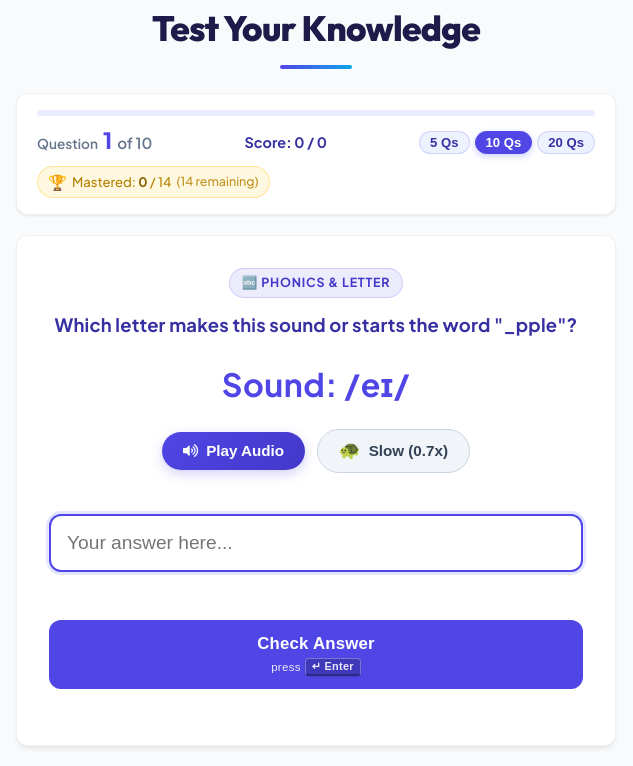
Test case: Quiz Component - Session Goals & Mastery Filtering › allows user to change the session goal to 5 or 20 questions
Click the button "5 Qs": click(444, 142) [419,130,470,154]
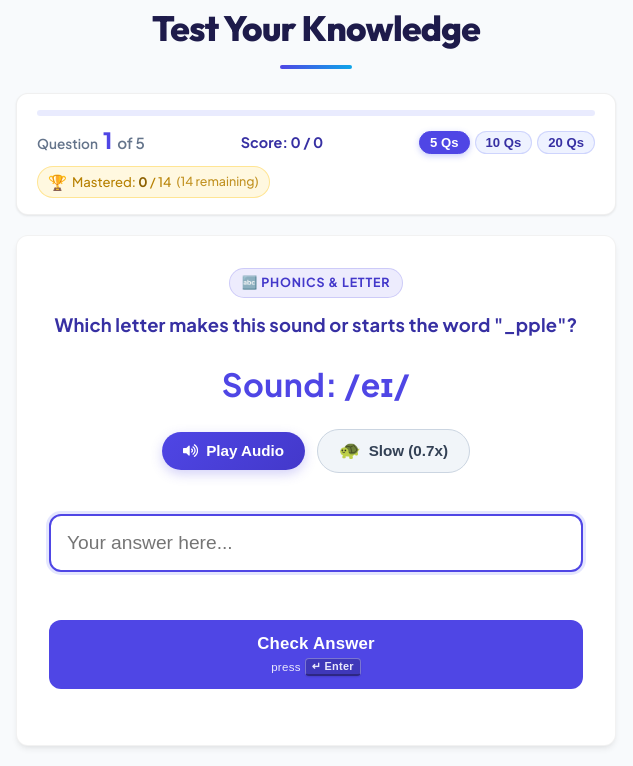
Expected: the text "of 5" is shown, [117,131,145,155]
Click the button "20 Qs": click(566, 142) [537,130,595,154]
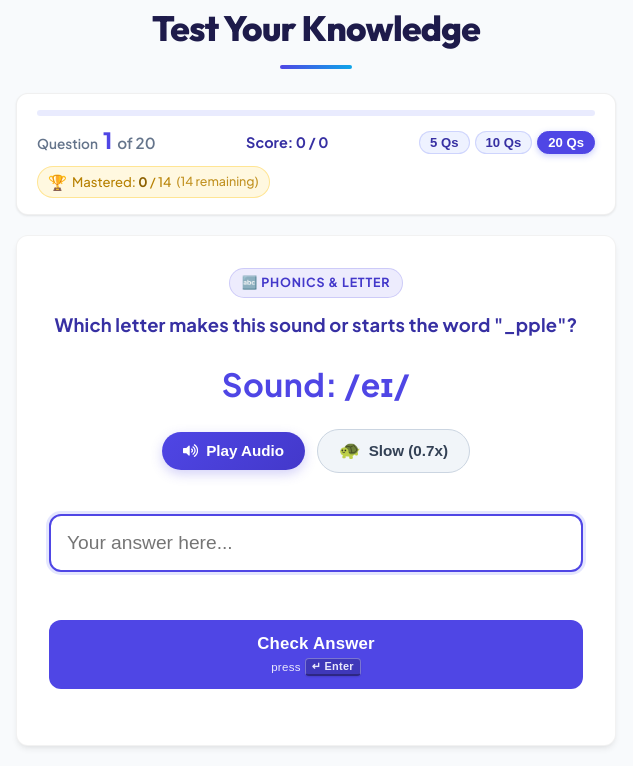
Expected: the text "of 20" is shown, [117,131,156,155]
